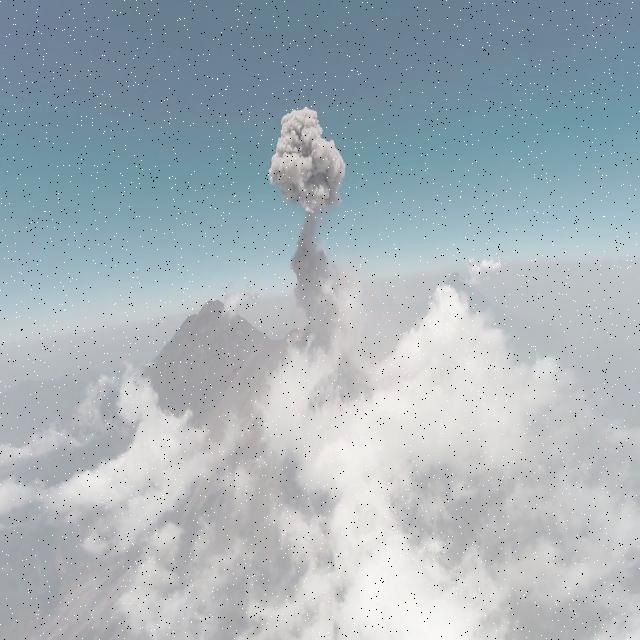Plume: (266, 102, 350, 336)
